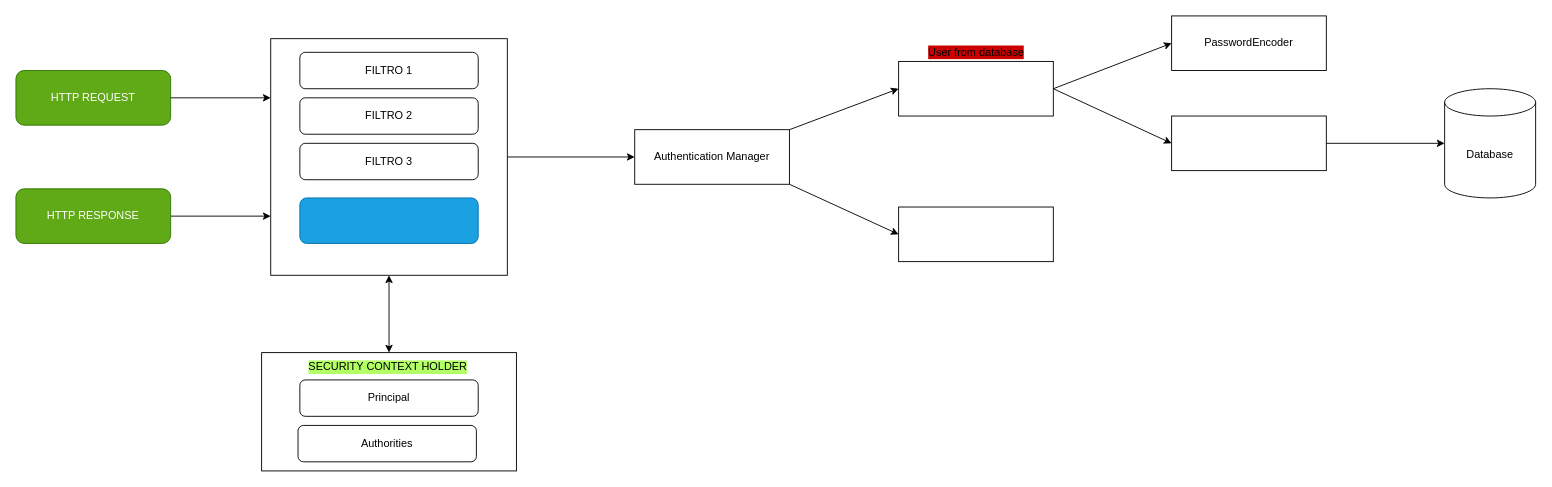
Some shapes in this 1552 by 487 pixel diagram are drawn without their labels. Here are the shapes that lost their labels. From the top down, the box of each, then its label:
(898, 61, 1053, 116): Authentication Provider A
(1171, 115, 1326, 171): UserDetailsService
(299, 197, 478, 243): DelegatingFilterProxy
(898, 206, 1053, 262): Authentication Provider B
